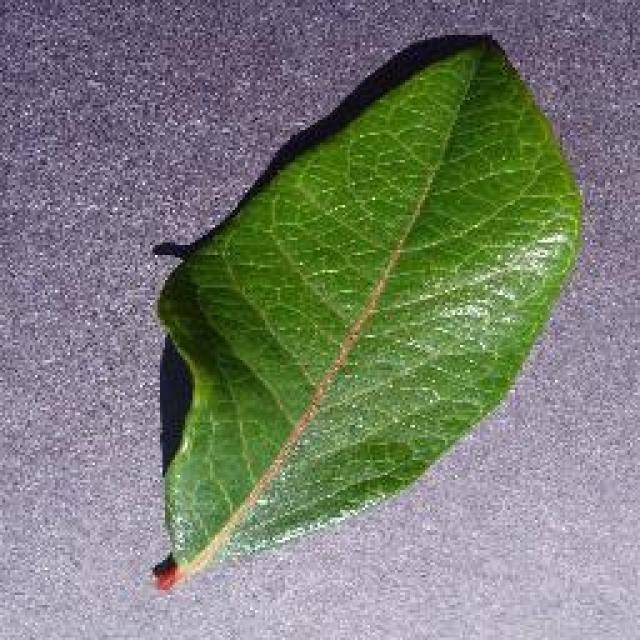Blu_healthy: (162, 178, 548, 492)
